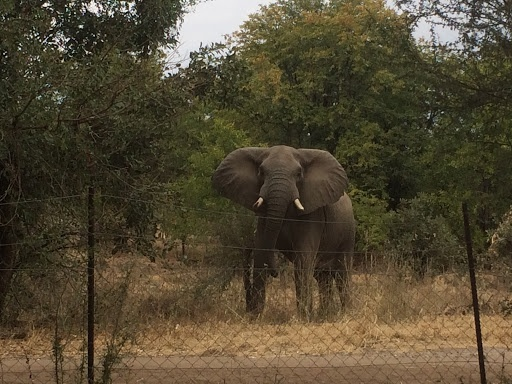elephant: (284, 230, 426, 384)
